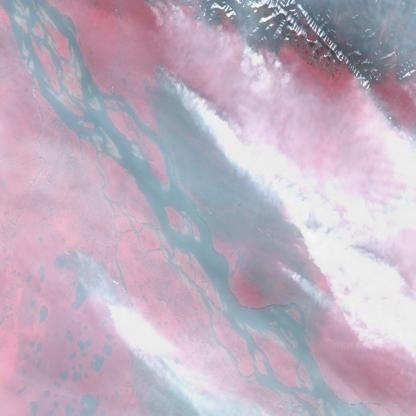fire: (148, 61, 333, 271), (146, 0, 206, 23)
